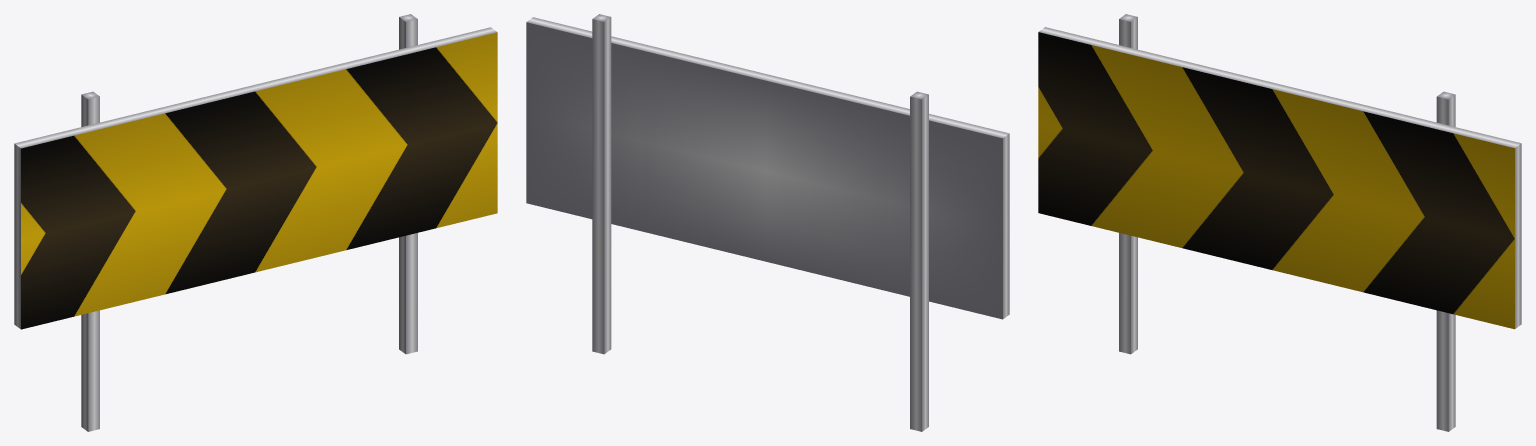
Rendered from directional_sign.fbx.
3 views of the same model, side by side, from view 1: azimuth 30°, elevation 25°; view 2: azimuth 150°, elevation 25°; view 3: azimuth 330°, elevation 25° (orthographic).
Parts seen in each view (by area): view 1: directional_sign_1; view 2: directional_sign_1; view 3: directional_sign_1.
Boxes of the visible parts, bbox=[...] form: directional_sign_1: bbox=[14, 14, 497, 431]; directional_sign_1: bbox=[526, 14, 1009, 431]; directional_sign_1: bbox=[1038, 14, 1521, 431].
Bounding box in the file's own units: 2.4 × 1.6 × 0.12.
